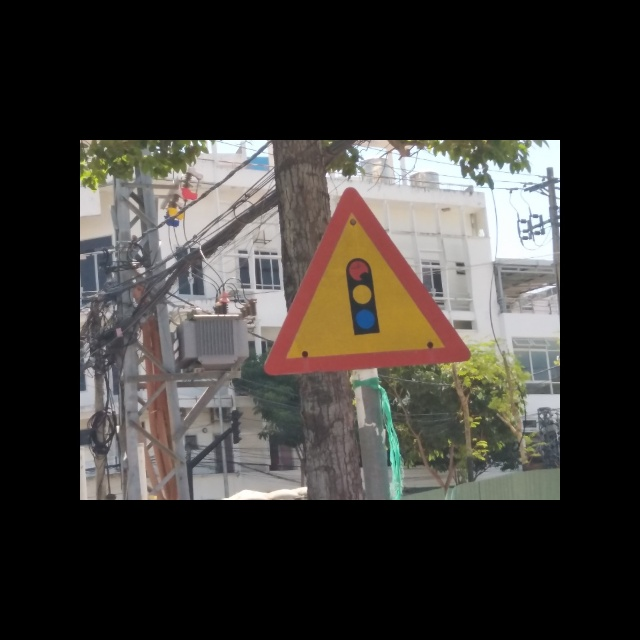Giao nhau có tín hiệu đèn: (251, 189, 474, 375)
